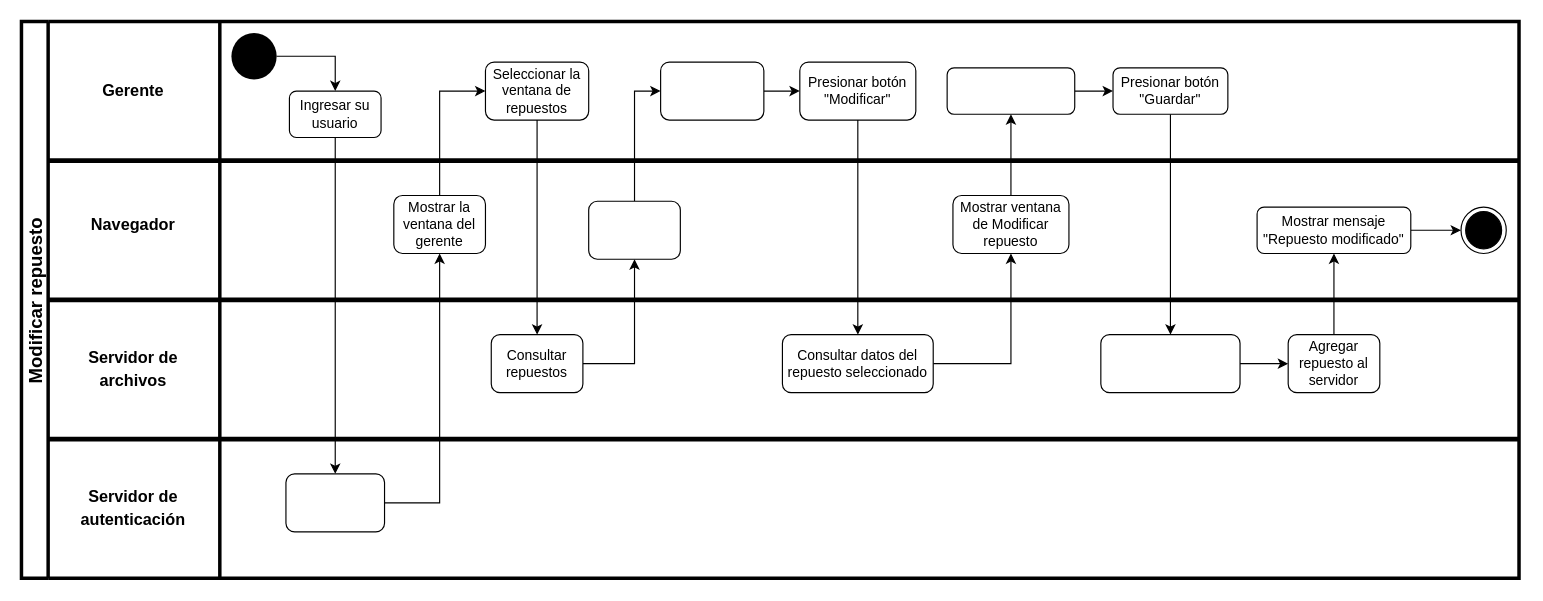
Some shapes in this 1543 by 601 pixel diagram are drawn without their labels. The shapes that lost their labels are listed below. From the top down, each one's centre as x and y in pixels, then its label:
At point (711, 90): "Seleccionar un repuesto".
At point (1010, 90): "Ingresar nuevos datos de repuesto".
At point (634, 229): "Mostrar lista de repuestos".
At point (1170, 363): "Validar nuevos datos del repuesto".
At point (335, 502): "Autenticar los permisos de usuario".
